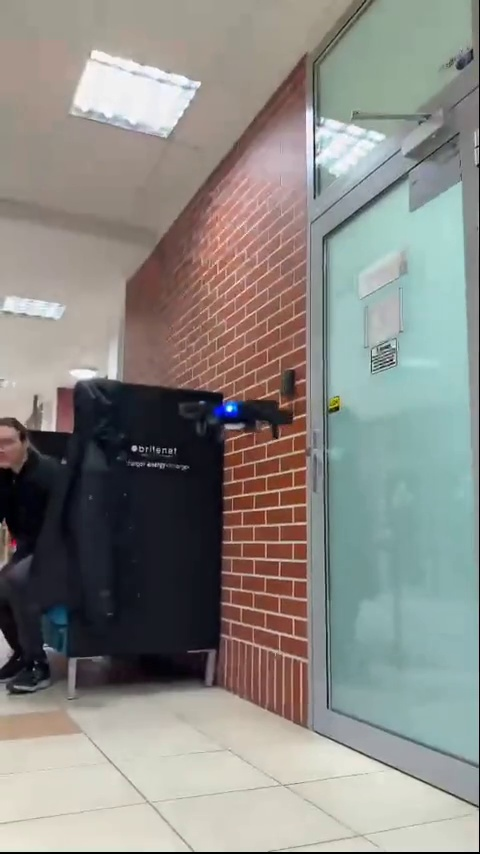drone: (179, 396, 292, 443)
no vest: (0, 424, 77, 697)
